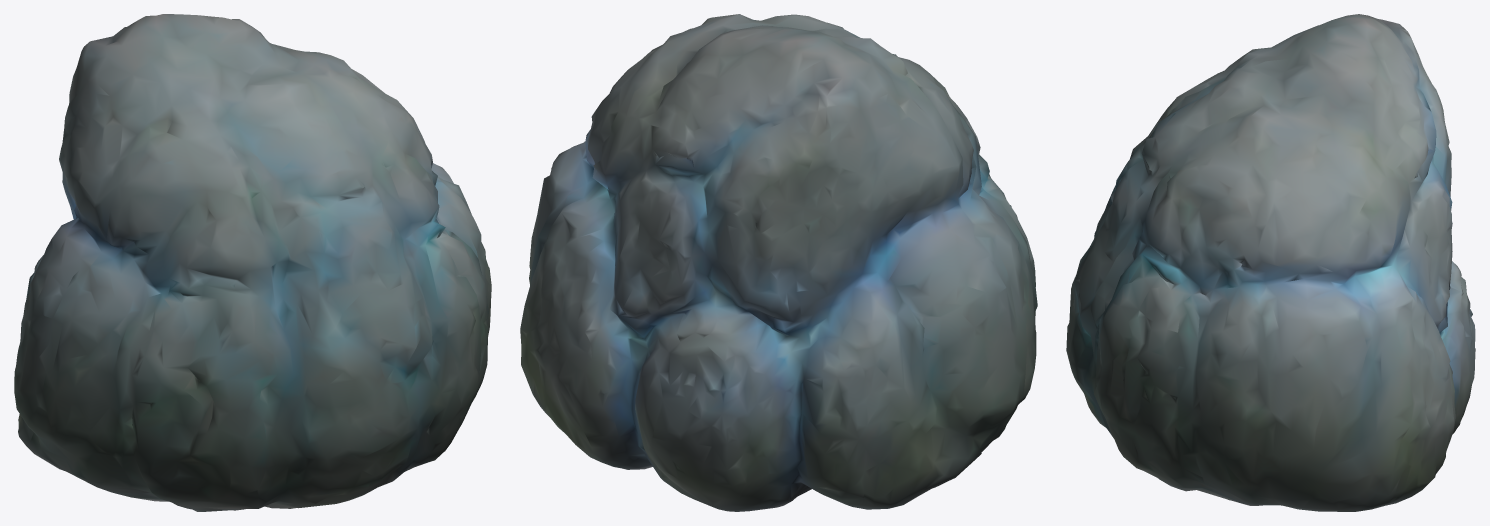
The model's file is media_1787078420469.glb.
3 renders of one model, left to right at view 1: azimuth 30°, elevation 25°; view 2: azimuth 150°, elevation 25°; view 3: azimuth 270°, elevation 25°, orthographic. The views are drawn at different scales.
Bounding box in the file's own units: 1.01 × 0.9484 × 0.8417.
